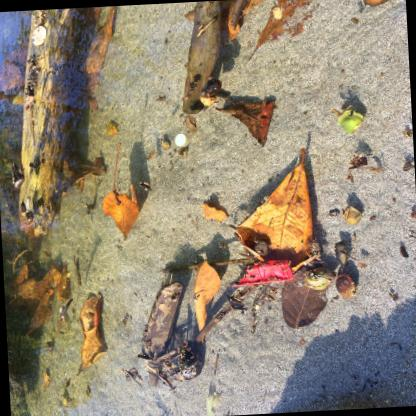Plastic: (231, 259, 293, 286), (174, 132, 189, 146)
